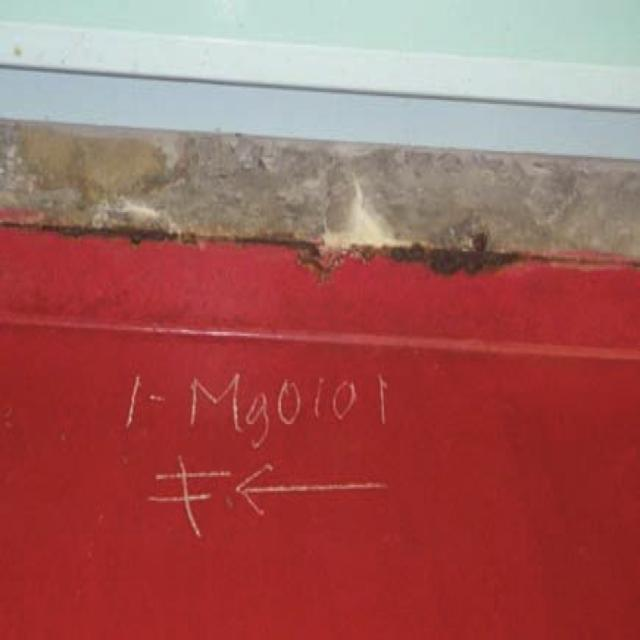corrosion: (20, 200, 533, 294)
